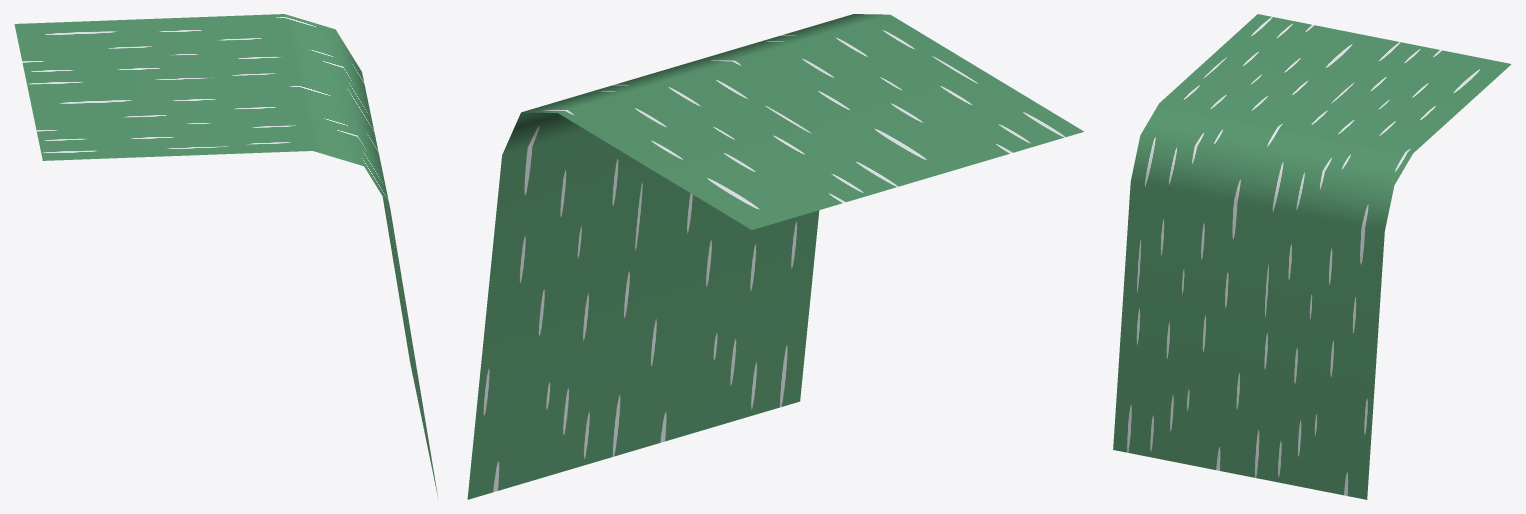
The model's file is WaterFall.fbx.
3 views of the same model, side by side, from view 1: azimuth 30°, elevation 25°; view 2: azimuth 150°, elevation 25°; view 3: azimuth 270°, elevation 25° (orthographic). The views are drawn at different scales.
Parts seen in each view (by area): view 1: WaterFall; view 2: WaterFall; view 3: WaterFall.
Boxes of the visible parts, x1,y1,x2,y2 form: WaterFall: (14,14,437,496); WaterFall: (467,14,1083,499); WaterFall: (1113,14,1511,499).
Size of what is drawn, in the model's own units: 1768 by 1387 by 1645.
1 material, 1 textured.
